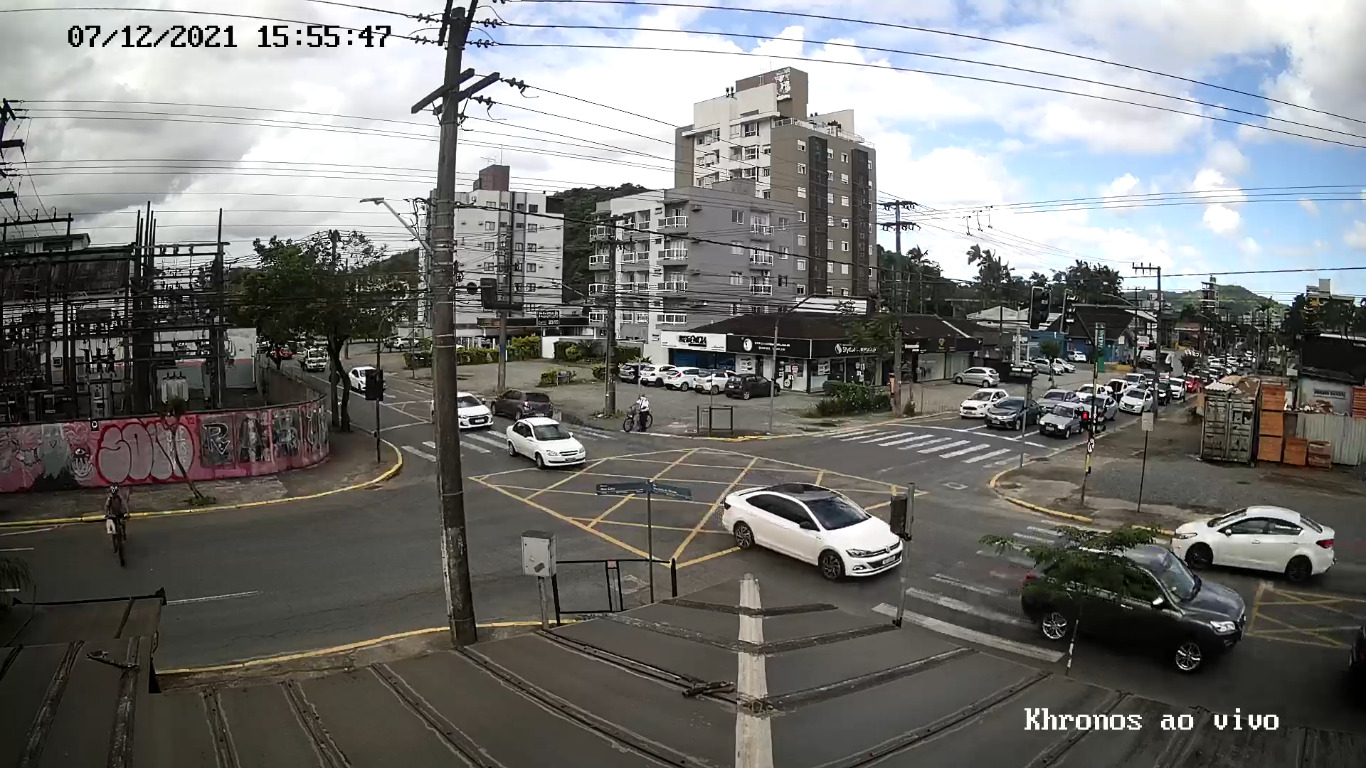car: (1022, 538, 1248, 673), (722, 482, 905, 582), (1169, 504, 1334, 582)
